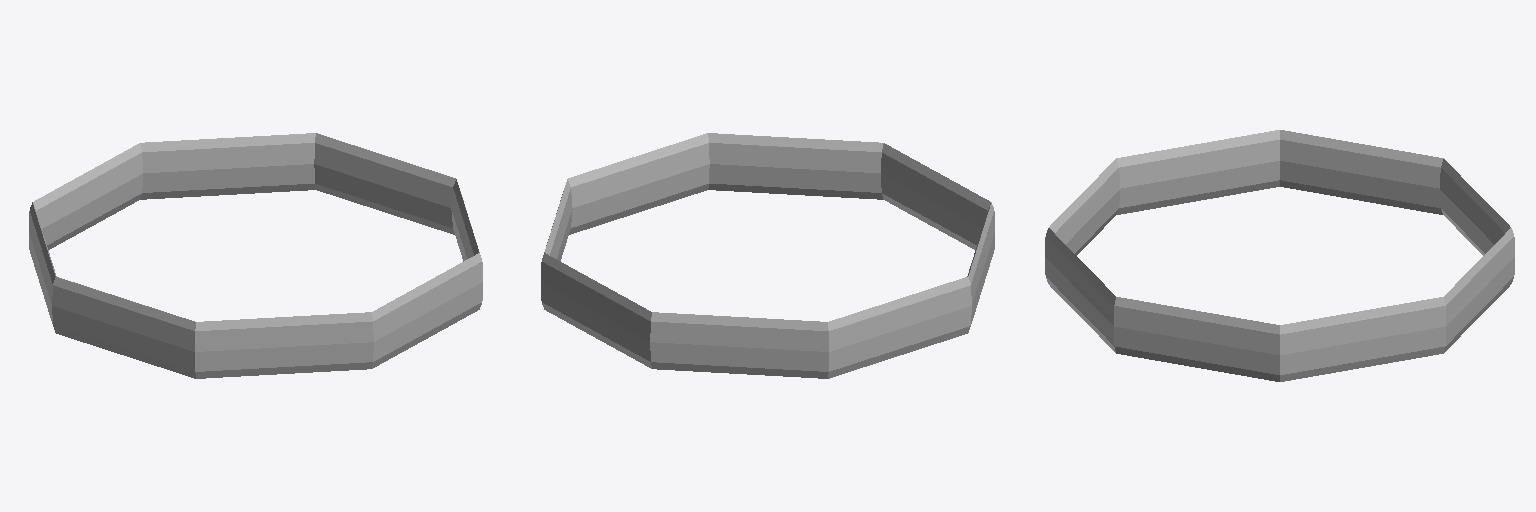
Rendered from octahedron_smoothed_80.obj.
3 renders of one model, left to right at view 1: azimuth 30°, elevation 25°; view 2: azimuth 150°, elevation 25°; view 3: azimuth 270°, elevation 25°, orthographic.
Bounding box in the file's own units: 0.837 × 0.112 × 0.837.